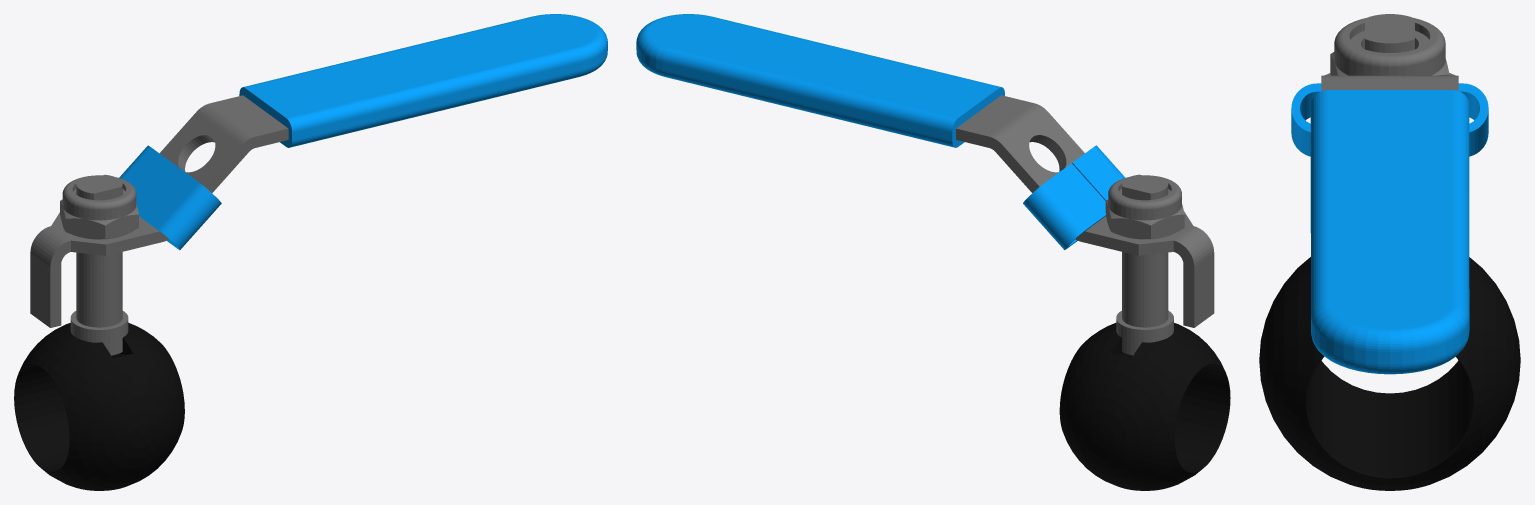
File: sensor6.glb
3 views of the same model, side by side, from view 1: azimuth 30°, elevation 25°; view 2: azimuth 150°, elevation 25°; view 3: azimuth 270°, elevation 25° (orthographic). The views are drawn at different scales.
Visible parts, largest first — view 1: 阀门把手; view 2: 阀门把手; view 3: 阀门把手.
Part boxes in pixels (<box>): 阀门把手: <box>14,14,607,490</box>; 阀门把手: <box>636,14,1230,490</box>; 阀门把手: <box>1259,14,1520,490</box>.
Bounding box in the file's own units: 0.1138 × 0.064 × 0.0305.
